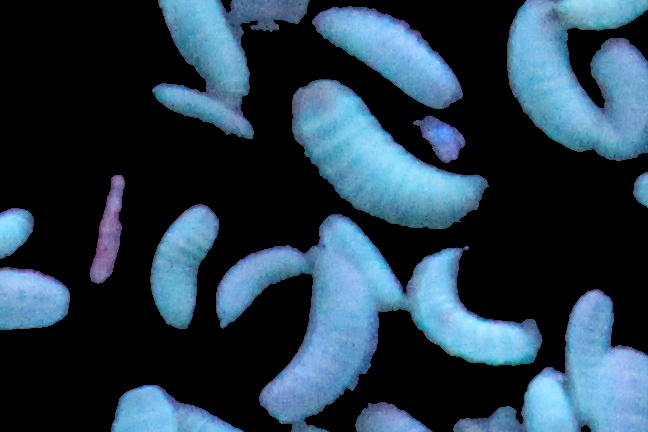larvae: (294, 83, 494, 226), (257, 244, 377, 424), (408, 246, 544, 365), (504, 1, 611, 152), (314, 1, 462, 106), (146, 1, 257, 113), (148, 197, 219, 331), (318, 216, 410, 311), (214, 244, 312, 328), (590, 37, 646, 162), (566, 287, 620, 407), (151, 85, 255, 141), (1, 266, 70, 331), (521, 367, 579, 432), (555, 1, 648, 32), (1, 201, 31, 263)
